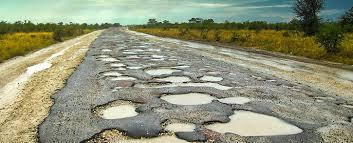pothole: (94, 33, 306, 143)
